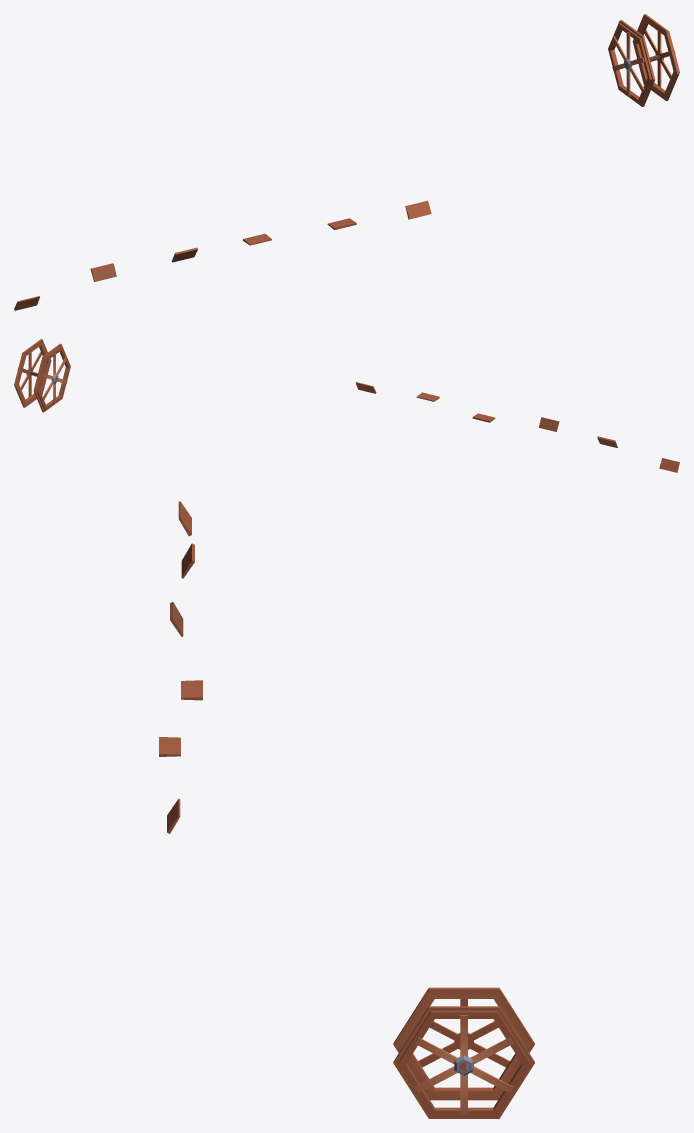
File: watermillWide.fbx
3 views of the same model, one above another, from view 1: azimuth 30°, elevation 25°; view 2: azimuth 150°, elevation 25°; view 3: azimuth 270°, elevation 25° (orthographic). The views are drawn at different scales.
Parts seen in each view (by area): view 1: watermillWide; view 2: watermillWide; view 3: watermillWide.
Part boxes in pixels (<box>): watermillWide: <box>608,14,679,106</box>; watermillWide: <box>14,339,70,412</box>; watermillWide: <box>393,987,534,1118</box>.
Bounding box in the file's own units: 18.93 × 5.31 × 1.73.
